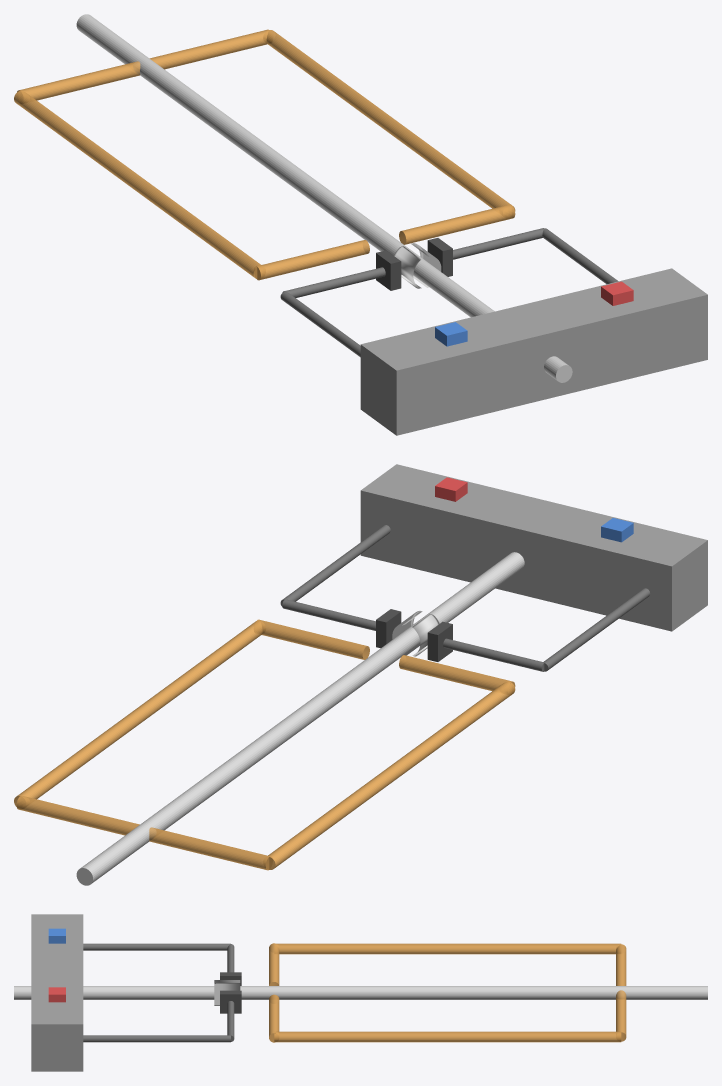
File: dc_motor_full_v2.glb
3 views of the same model, one above another, from view 1: azimuth 30°, elevation 25°; view 2: azimuth 150°, elevation 25°; view 3: azimuth 270°, elevation 25° (orthographic). The views are drawn at different scales.
Visible parts, largest first — view 1: PowerBox, Shaft, Coil_L, Coil_R, Coil_Top, Coil_Bot_R, Coil_Bot_L, Wire_L1, Wire_L2, Wire_R1, Cylinder, Wire_R2 (+1 smaller); view 2: PowerBox, Shaft, Coil_L, Coil_R, Coil_Top, Coil_Bot_R, Coil_Bot_L, Wire_L2, Wire_R2, Wire_L1, Wire_R1, Cylinder (+2 smaller); view 3: Shaft, PowerBox, Coil_R, Coil_L, Wire_R2, Wire_L2, Coil_Top, Coil_Bot_R, Coil_Bot_L, Brush_R, Cylinder, Wire_R1 (+2 smaller).
Part boxes in pixels (x1=…): PowerBox: x1=360, y1=268, x2=707, y2=435; Shaft: x1=76, y1=14, x2=572, y2=382; Coil_L: x1=14, y1=91, x2=265, y2=278; Coil_R: x1=263, y1=30, x2=515, y2=217; Coil_Top: x1=17, y1=29, x2=272, y2=103; Coil_Bot_R: x1=399, y1=204, x2=515, y2=244; Coil_Bot_L: x1=254, y1=240, x2=369, y2=280; Wire_L1: x1=282, y1=267, x2=385, y2=297; Wire_L2: x1=280, y1=291, x2=360, y2=357; Wire_R1: x1=453, y1=228, x2=543, y2=259; Cylinder: x1=394, y1=243, x2=441, y2=288; Wire_R2: x1=542, y1=228, x2=618, y2=284; PowerBox: x1=360, y1=464, x2=707, y2=631; Shaft: x1=76, y1=552, x2=524, y2=885; Coil_L: x1=263, y1=681, x2=515, y2=869; Coil_R: x1=14, y1=620, x2=265, y2=808; Coil_Top: x1=16, y1=796, x2=272, y2=870; Coil_Bot_R: x1=254, y1=619, x2=369, y2=659; Coil_Bot_L: x1=399, y1=655, x2=515, y2=694; Wire_L2: x1=543, y1=588, x2=650, y2=671; Wire_R2: x1=280, y1=525, x2=390, y2=606; Wire_L1: x1=443, y1=638, x2=544, y2=671; Wire_R1: x1=282, y1=599, x2=375, y2=630; Cylinder: x1=392, y1=611, x2=439, y2=656; Shaft: x1=14, y1=986, x2=707, y2=999; PowerBox: x1=31, y1=914, x2=83, y2=1071; Coil_R: x1=274, y1=1031, x2=621, y2=1042; Coil_L: x1=274, y1=943, x2=620, y2=954; Wire_R2: x1=83, y1=1035, x2=230, y2=1042; Wire_L2: x1=83, y1=943, x2=230, y2=950; Coil_Top: x1=616, y1=944, x2=626, y2=1041; Coil_Bot_R: x1=269, y1=994, x2=279, y2=1042; Coil_Bot_L: x1=269, y1=943, x2=279, y2=985; Brush_R: x1=220, y1=990, x2=241, y2=1013; Cylinder: x1=214, y1=980, x2=240, y2=1005; Wire_R1: x1=227, y1=1001, x2=234, y2=1041.
Bounding box in the file's own units: 3 × 0.7 × 8.
